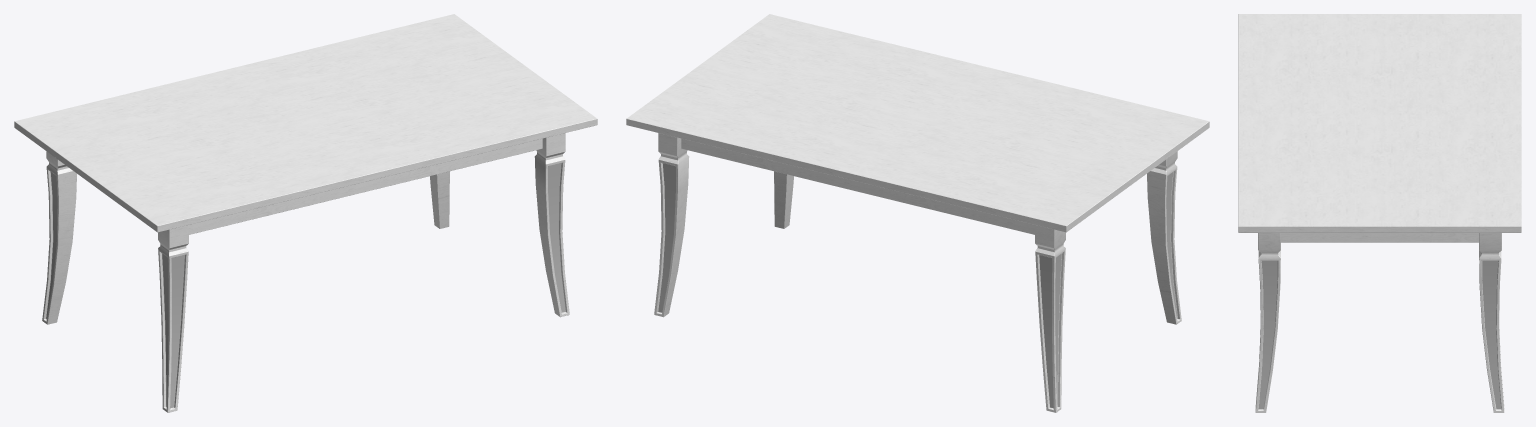
File: Dining_Table.fbx
3 renders of one model, left to right at view 1: azimuth 30°, elevation 25°; view 2: azimuth 150°, elevation 25°; view 3: azimuth 270°, elevation 25°, orthographic.
Visible parts, largest first — view 1: Dining_Table_LOD_0; view 2: Dining_Table_LOD_0; view 3: Dining_Table_LOD_0.
Boxes of the visible parts, <box> form: Dining_Table_LOD_0: <box>14,14,597,412</box>; Dining_Table_LOD_0: <box>626,14,1209,412</box>; Dining_Table_LOD_0: <box>1238,14,1521,412</box>.
Size of what is drawn, in the model's own units: 180 by 77.39 by 101.
